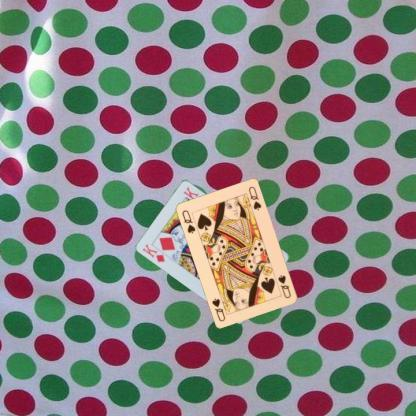Kd: (140, 241, 166, 263)
Qs: (180, 208, 197, 235), (276, 273, 292, 300)
